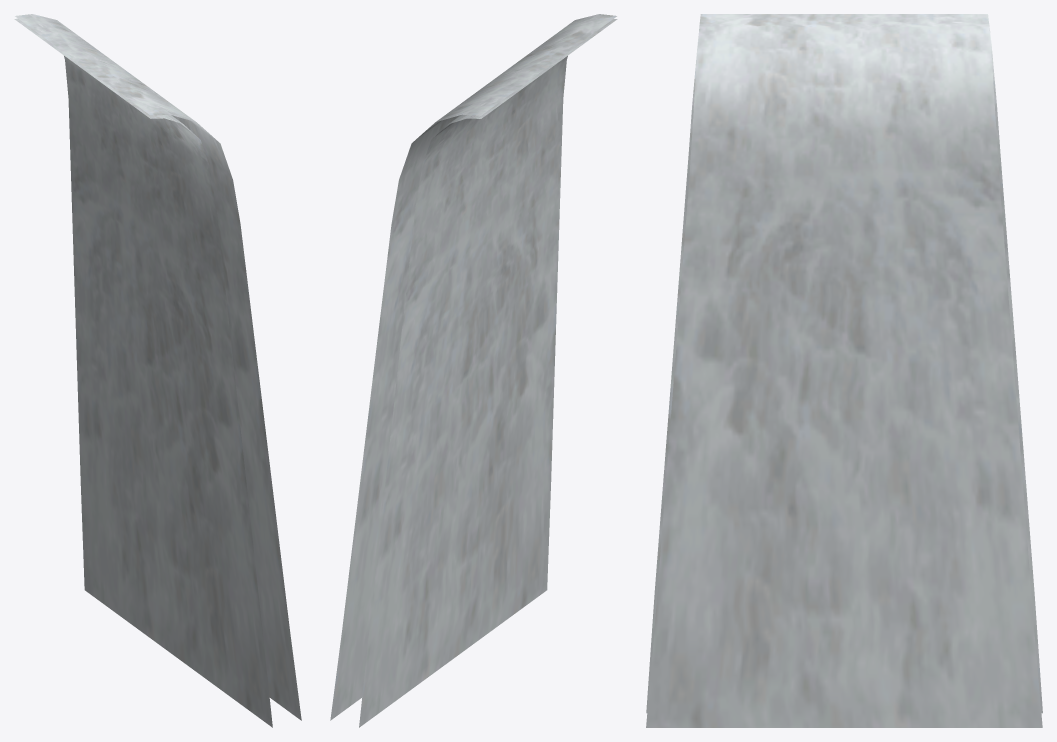
Rendered from newwaterfall.obj.
3 views of the same model, side by side, from view 1: azimuth 30°, elevation 25°; view 2: azimuth 150°, elevation 25°; view 3: azimuth 270°, elevation 25° (orthographic). The views are drawn at different scales.
Visible parts, largest first — view 1: Geoset1, Geoset0; view 2: Geoset1, Geoset0; view 3: Geoset0, Geoset1.
Boxes of the visible parts, <box> form: Geoset1: <box>14,18,272,727</box>; Geoset0: <box>15,14,301,720</box>; Geoset1: <box>359,19,617,727</box>; Geoset0: <box>330,14,616,720</box>; Geoset0: <box>646,14,1042,727</box>; Geoset1: <box>646,23,1042,713</box>.
Size of the model in its own units: 1.86 by 8.73 by 4.84.
Materials: 1 (1 with a texture image).
